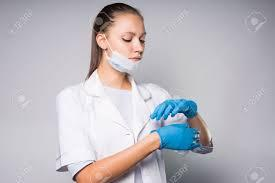Wore Mask Incorrectly: (84, 3, 156, 85)
